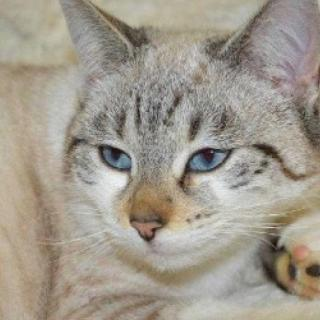cat: (50, 0, 320, 281)
nose: (124, 187, 170, 243)
